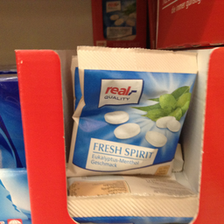candy: (70, 44, 196, 202)
